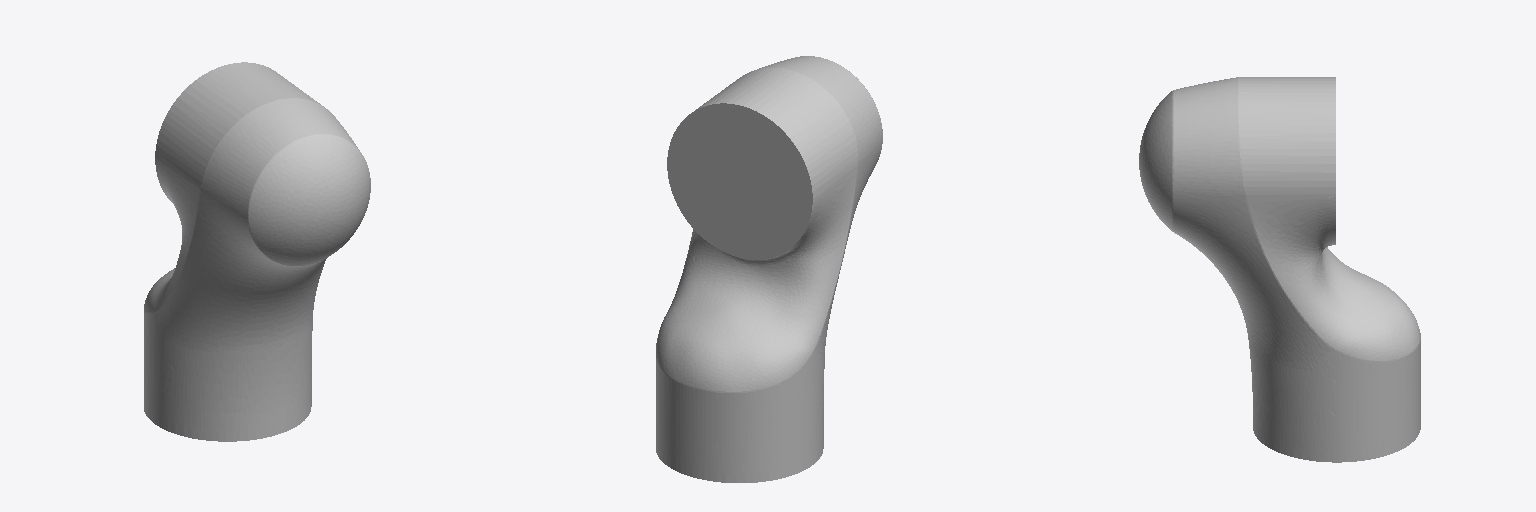
The picture shows the model from 3 angles: view 1: azimuth 30°, elevation 25°; view 2: azimuth 150°, elevation 25°; view 3: azimuth 270°, elevation 25°; orthographic projection.
Parts seen in each view (by area): view 1: node0_Part__Feature.001; view 2: node0_Part__Feature.001; view 3: node0_Part__Feature.001.
Boxes of the visible parts, <box> form: node0_Part__Feature.001: <box>144,62,370,441</box>; node0_Part__Feature.001: <box>656,56,882,482</box>; node0_Part__Feature.001: <box>1139,77,1420,462</box>.
Size of the model in its own units: 0.11 by 0.247 by 0.1844.